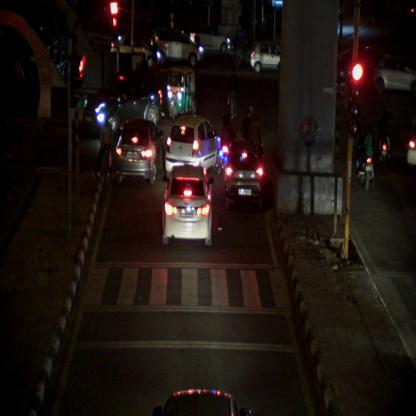car: (162, 160, 213, 250), (83, 77, 162, 129), (165, 115, 221, 182), (116, 120, 164, 185), (223, 140, 263, 207), (151, 29, 203, 67), (374, 51, 416, 95), (190, 25, 230, 55), (249, 42, 280, 72)
motorcycle: (358, 126, 374, 190)
